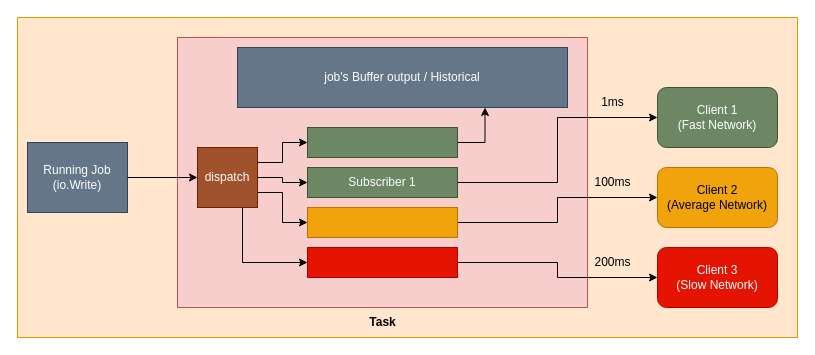
This 815x355 diagram has some shape labels left out. The shapes that lost their labels are listed below. From the top down, each one's box as (x1, y1, x2, y2) in pixels, then its label:
(306, 126, 458, 158): Subscriber Default
(306, 206, 458, 238): Subscriber 2
(306, 246, 458, 278): Subscriber 3
